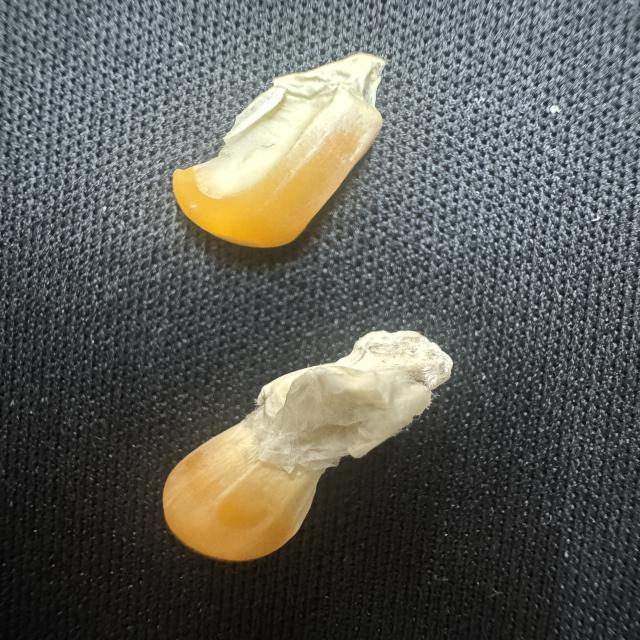Bad-Seed: (153, 326, 460, 564), (163, 48, 404, 255)
